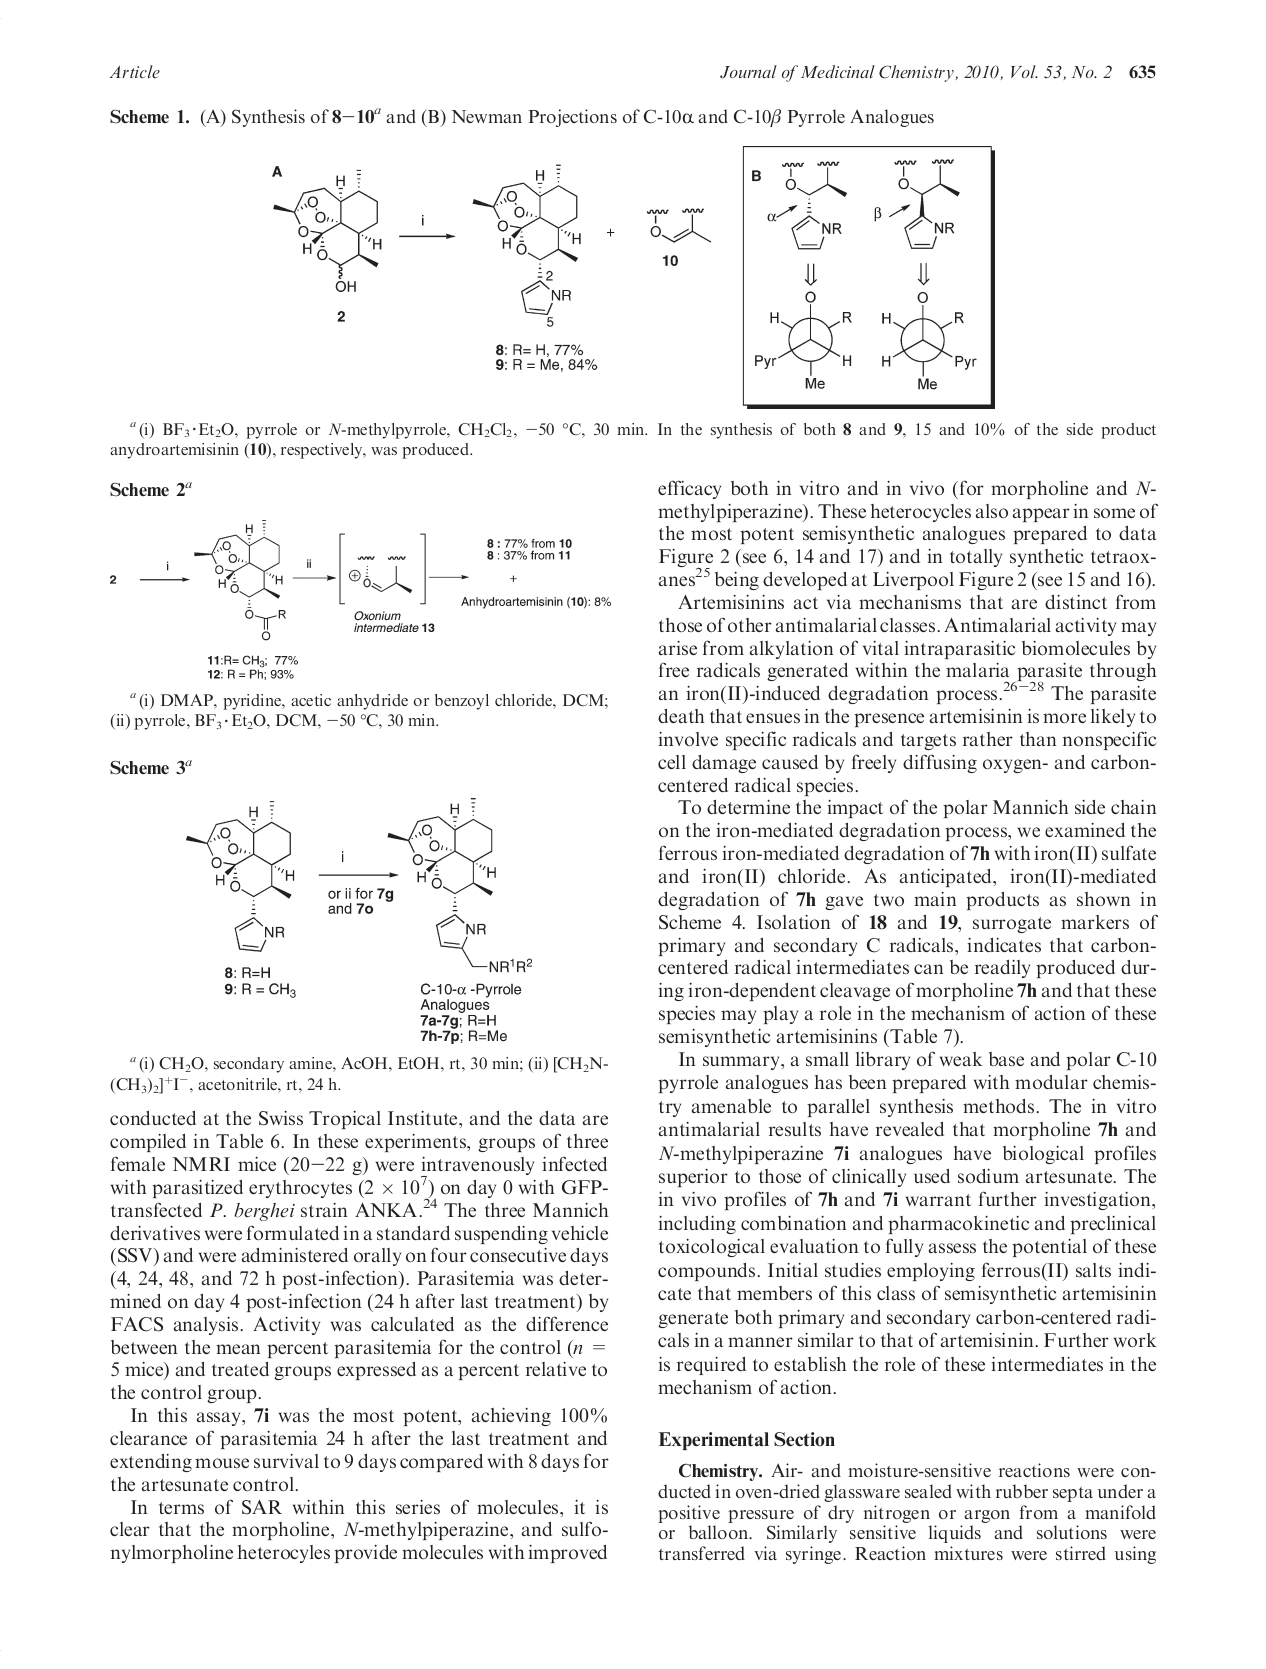exist_molecular: (386, 797, 533, 973), (469, 164, 582, 330), (185, 798, 295, 952), (273, 168, 384, 293), (191, 519, 287, 641), (880, 289, 977, 391), (892, 156, 964, 251), (777, 160, 846, 251), (646, 202, 713, 247), (348, 553, 414, 594)
